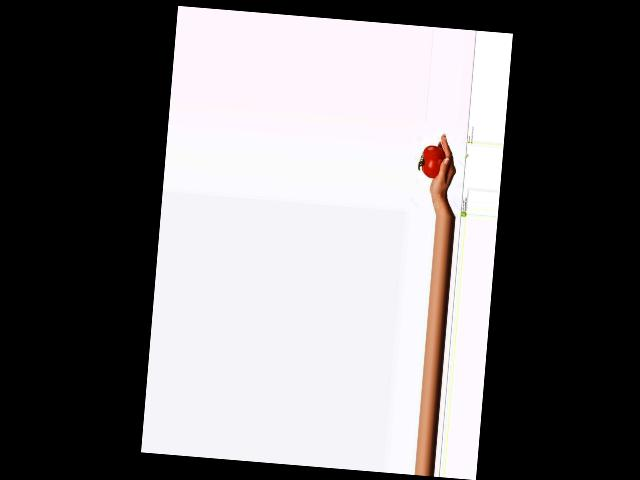tomato: (421, 144, 446, 178)
